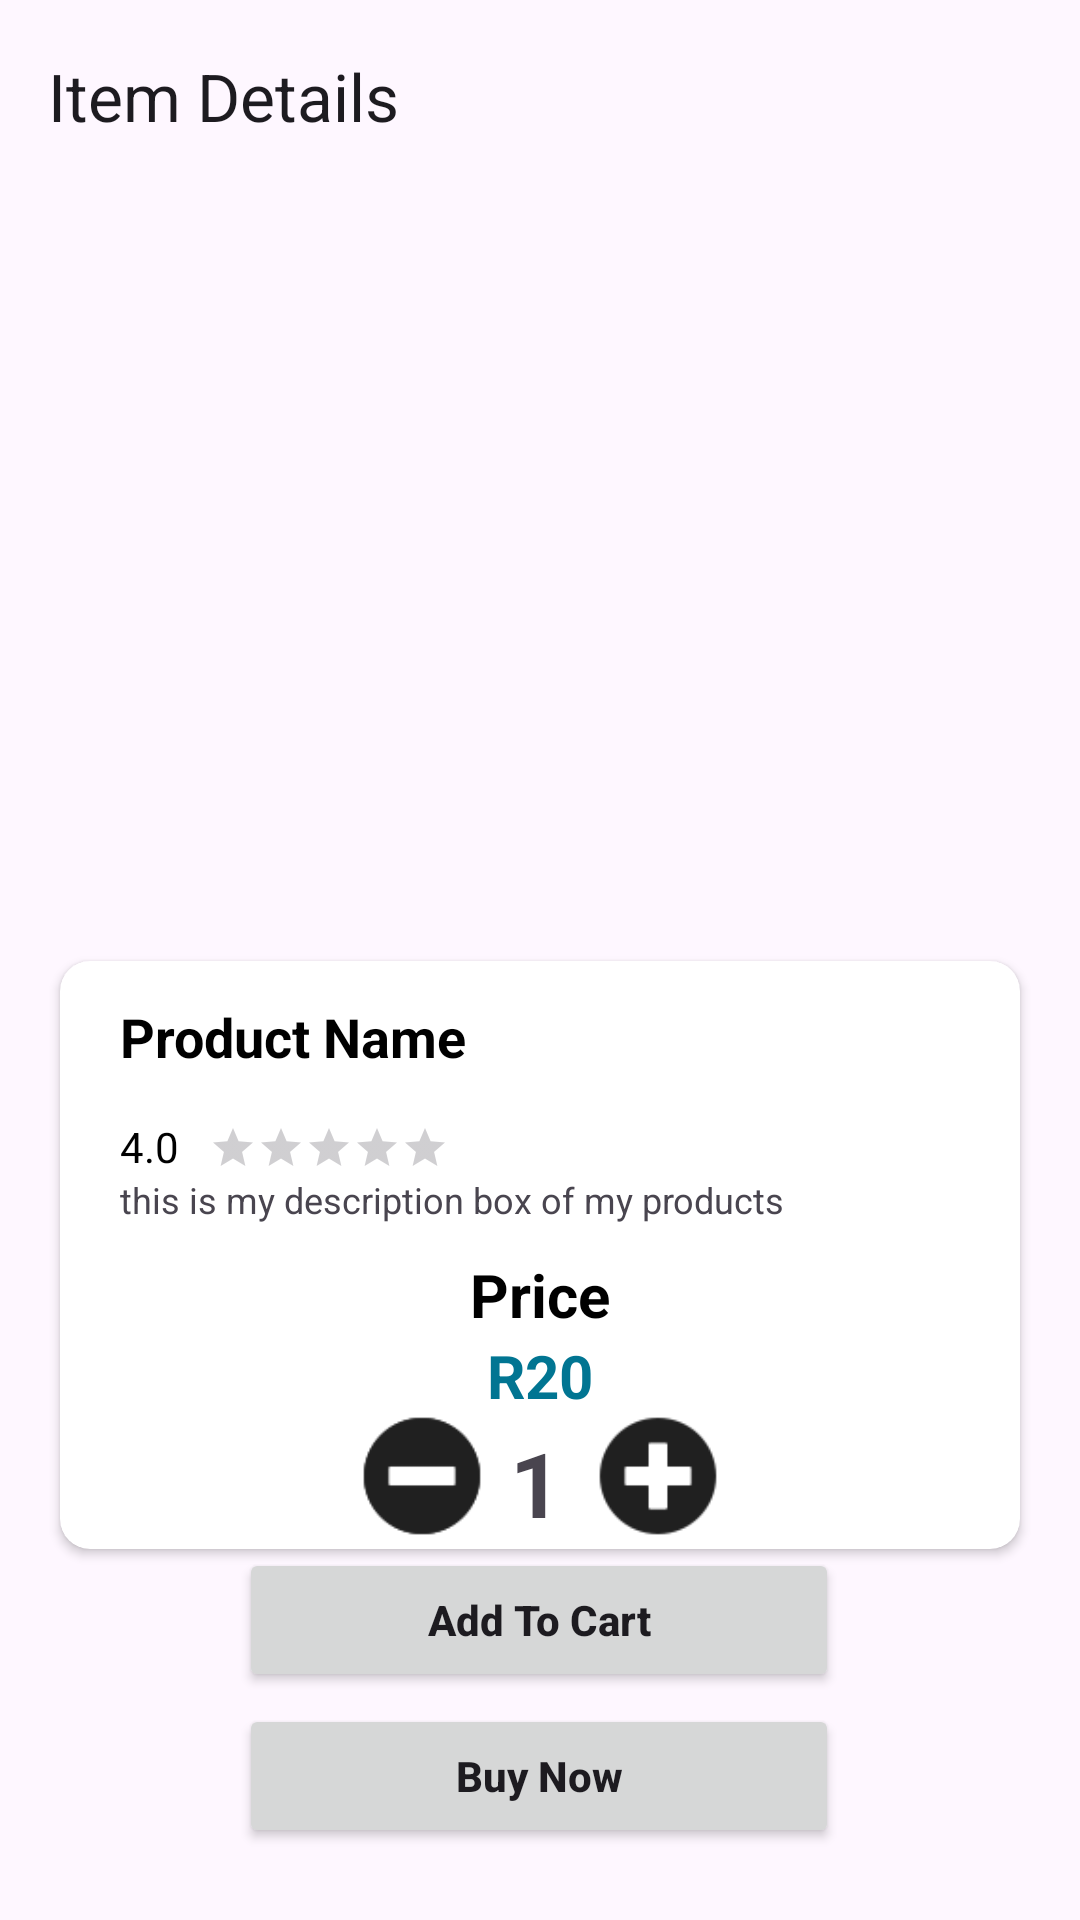

Where to tap for icons on this 1080*1920 app screen, as point (x, y):
minus: point (422, 1476)
plus: point (658, 1476)
